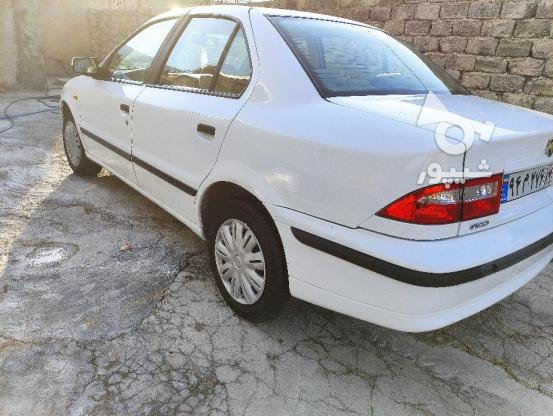car: (498, 166, 553, 203)
